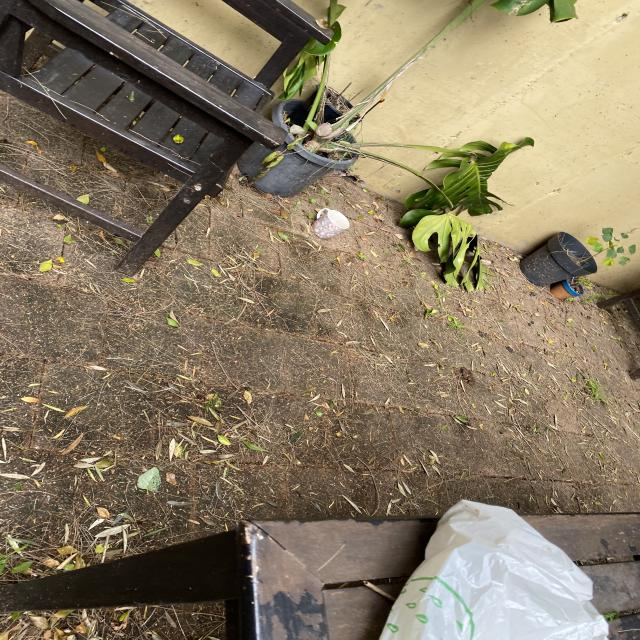bag: (378, 499, 608, 640)
cup: (313, 208, 349, 240)
